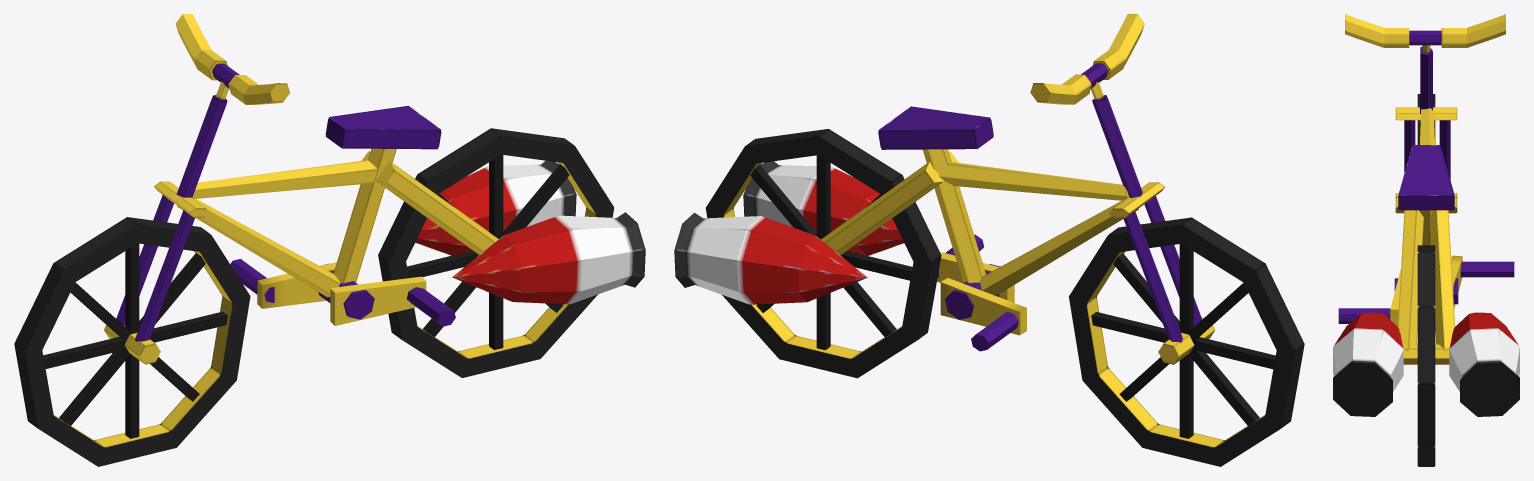
Rendered from cycol(2).fbx.
The picture shows the model from 3 angles, left to right: view 1: azimuth 30°, elevation 25°; view 2: azimuth 150°, elevation 25°; view 3: azimuth 270°, elevation 25°; orthographic projection. The views are drawn at different scales.
Visible parts, largest first — view 1: cylinder_2, cylinder, rocket2, frontwheels, rocket, backwheels, group, cylinder_6, cylinder_4, cylinder_7, cylinder_12, cylinder_5 (+10 smaller); view 2: cylinder_2, cylinder, rocket, frontwheels, rocket2, backwheels, group, cylinder_6, cylinder_5_1, cylinder_7, cylinder_12, cylinder_5 (+9 smaller); view 3: rocket, rocket2, cylinder, cylinder_12, group, cylinder_4, cylinder_5_1, cylinder_14, cylinder_11, cylinder_10, cylinder_1, cylinder_6 (+8 smaller).
Part boxes in pixels (x1,y1,x2,y2): cylinder_2: (14, 217, 250, 466); cylinder: (378, 128, 614, 377); rocket2: (452, 212, 645, 304); frontwheels: (43, 243, 227, 438); rocket: (415, 160, 576, 255); backwheels: (407, 154, 569, 349); group: (325, 106, 441, 149); cylinder_6: (192, 160, 377, 198); cylinder_4: (376, 161, 498, 254); cylinder_7: (177, 199, 340, 297); cylinder_12: (175, 14, 289, 104); cylinder_5: (333, 148, 396, 283); cylinder_2: (1069, 217, 1304, 466); cylinder: (705, 129, 941, 378); rocket: (674, 212, 867, 304); frontwheels: (1091, 244, 1275, 438); rocket2: (743, 161, 903, 255); backwheels: (750, 155, 912, 350); group: (878, 106, 993, 149); cylinder_6: (938, 162, 1128, 200); cylinder_5_1: (821, 162, 943, 255); cylinder_7: (979, 200, 1139, 295); cylinder_12: (1030, 14, 1144, 104); cylinder_5: (923, 149, 985, 282); rocket: (1449, 312, 1519, 416); rocket2: (1333, 312, 1403, 416); cylinder: (1417, 245, 1435, 466); cylinder_12: (1345, 14, 1505, 47); group: (1398, 145, 1454, 210); cylinder_4: (1398, 210, 1423, 350); cylinder_5_1: (1429, 210, 1454, 350); cylinder_14: (1460, 261, 1514, 277); cylinder_11: (1420, 45, 1432, 113); cylinder_10: (1395, 107, 1457, 120); cylinder_1: (1403, 344, 1449, 364); cylinder_6: (1420, 108, 1434, 144).
Size of the model in its own units: 343 by 212 by 110.
1 material, 1 textured.
